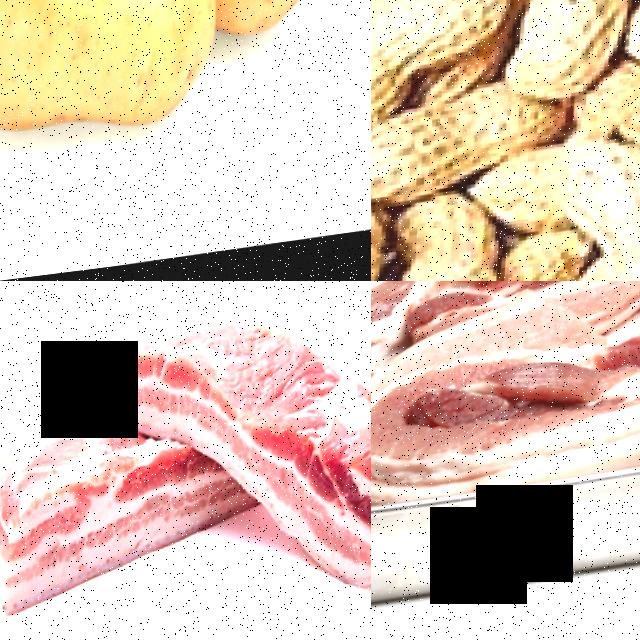peanuts: (371, 94, 512, 215), (508, 0, 640, 107), (398, 205, 513, 281), (371, 30, 412, 149), (371, 185, 397, 281)
pork belly: (371, 306, 640, 520), (0, 413, 215, 623), (105, 303, 319, 461), (239, 365, 371, 610), (371, 281, 640, 383)
potato: (0, 0, 232, 156)
